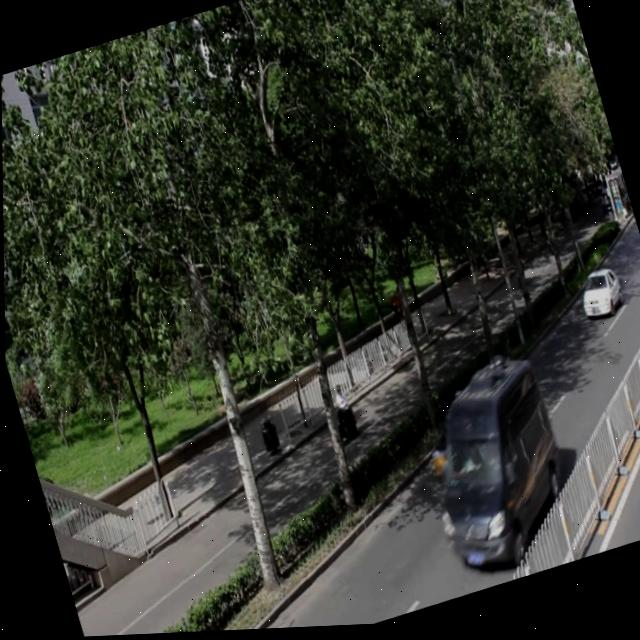car: (570, 270, 624, 329)
truck: (401, 351, 579, 584)
